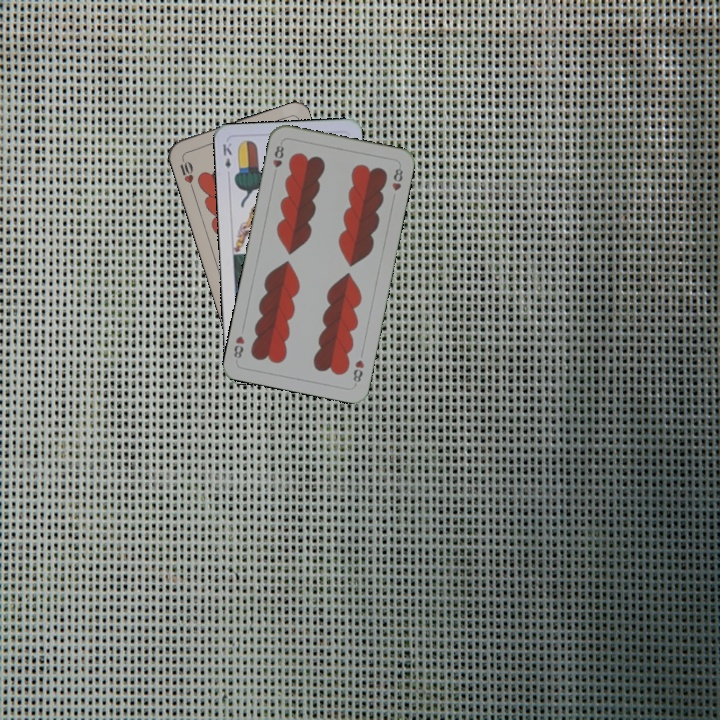EK: (219, 139, 234, 171)
H10: (175, 153, 196, 192)
H8: (349, 356, 367, 388), (269, 141, 287, 170)
